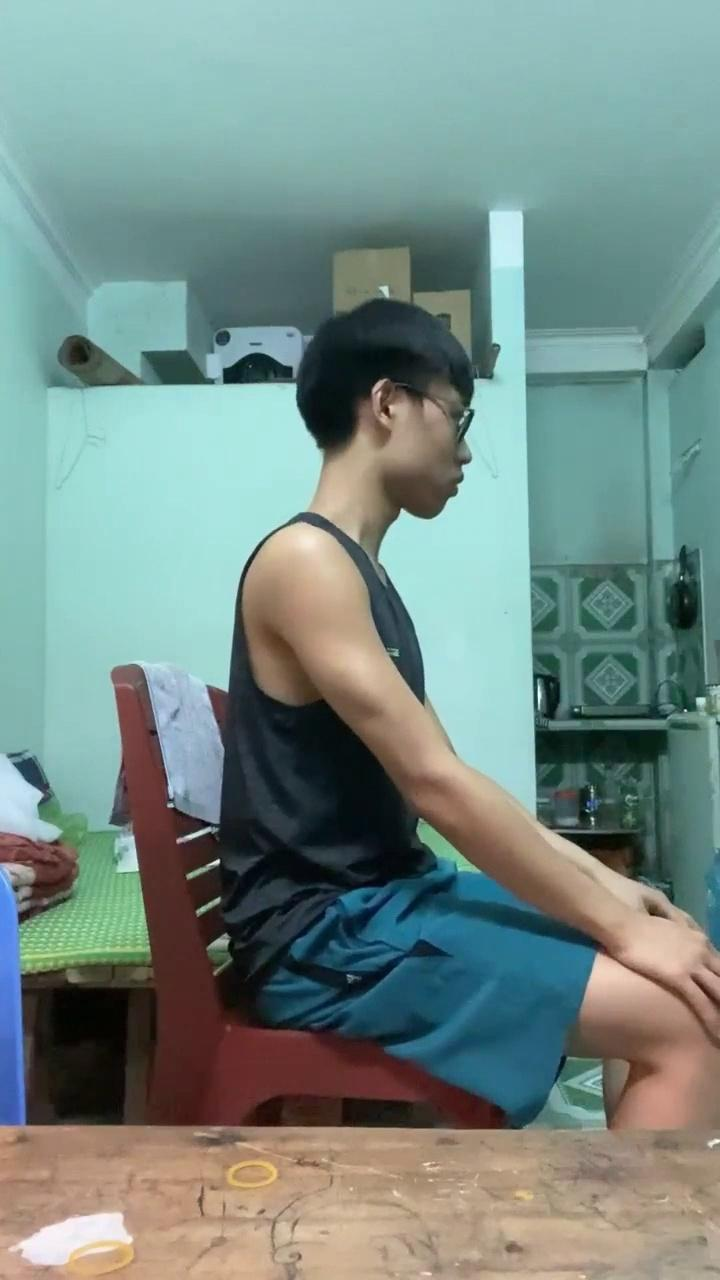GoodPosture: (213, 298, 719, 1129)
